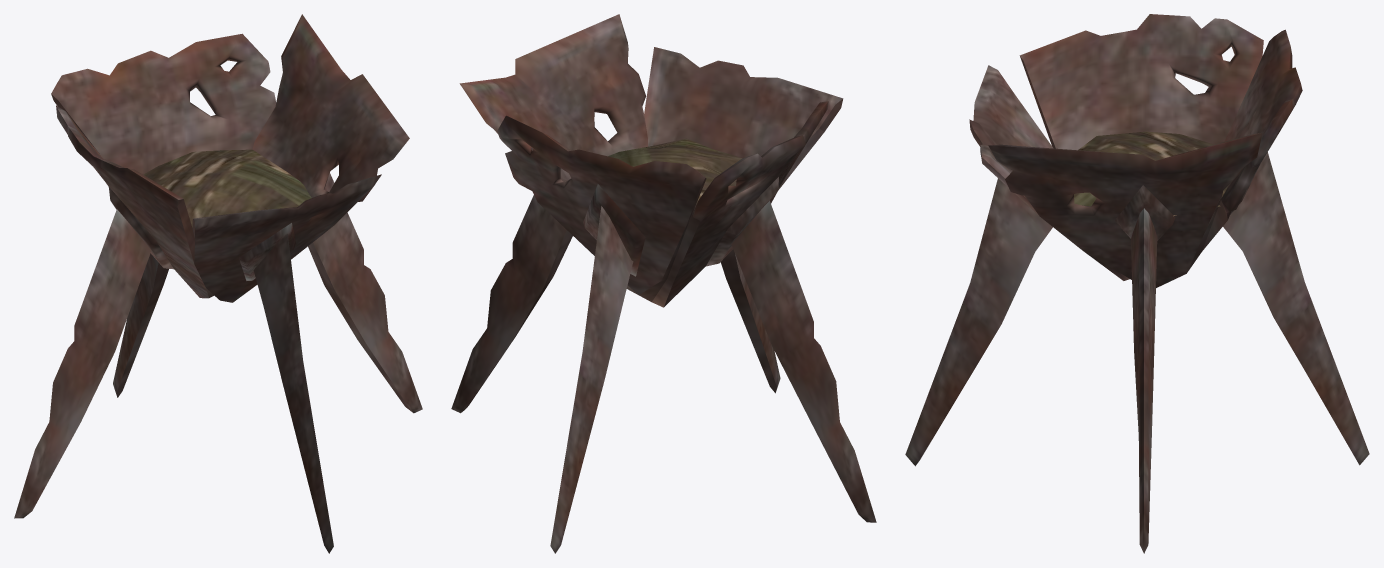
File: comfort_t1_illuminationfloor_brazier.glb
3 renders of one model, left to right at view 1: azimuth 30°, elevation 25°; view 2: azimuth 150°, elevation 25°; view 3: azimuth 270°, elevation 25°, orthographic. The views are drawn at different scales.
Visible parts, largest first — view 1: scavenger_camp_deco_brazier_01_a; view 2: scavenger_camp_deco_brazier_01_a; view 3: scavenger_camp_deco_brazier_01_a.
Boxes of the visible parts, bbox=[...] form: scavenger_camp_deco_brazier_01_a: bbox=[14, 14, 422, 553]; scavenger_camp_deco_brazier_01_a: bbox=[451, 14, 876, 553]; scavenger_camp_deco_brazier_01_a: bbox=[905, 14, 1369, 553].
Bounding box in the file's own units: 1.89 × 1.7 × 1.77.
Materials: 2 (2 with a texture image).
